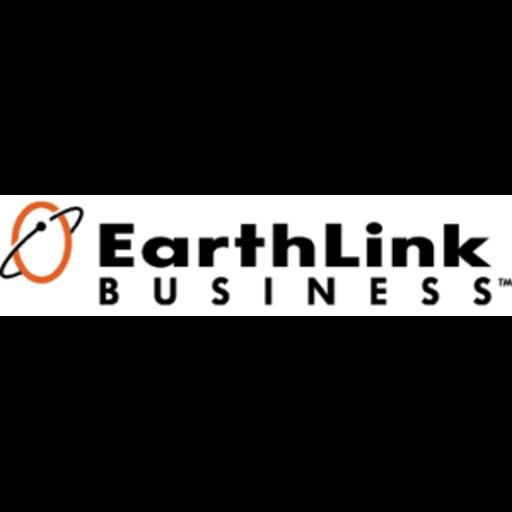EarthLink: (0, 195, 512, 316)
